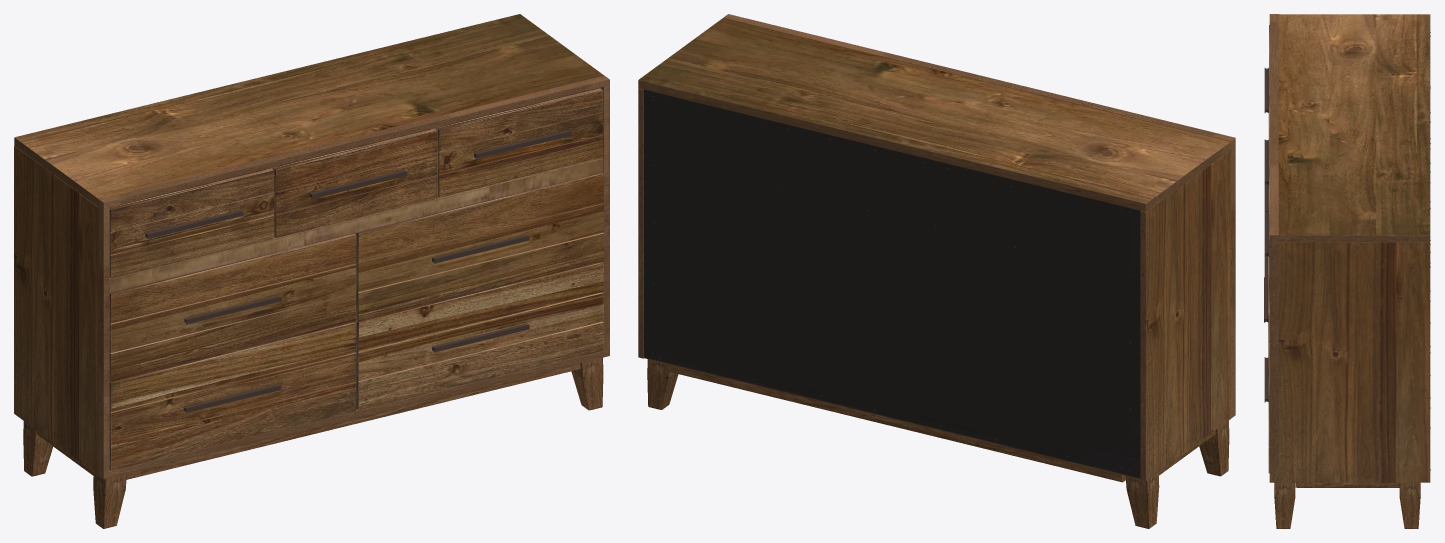
File: abo-B07B51N75G.glb
3 renders of one model, left to right at view 1: azimuth 30°, elevation 25°; view 2: azimuth 150°, elevation 25°; view 3: azimuth 270°, elevation 25°, orthographic. The views are drawn at different scales.
Bounding box in the file's own units: 1.4 × 0.873 × 0.446.
Materials: 1 (1 with a texture image).
